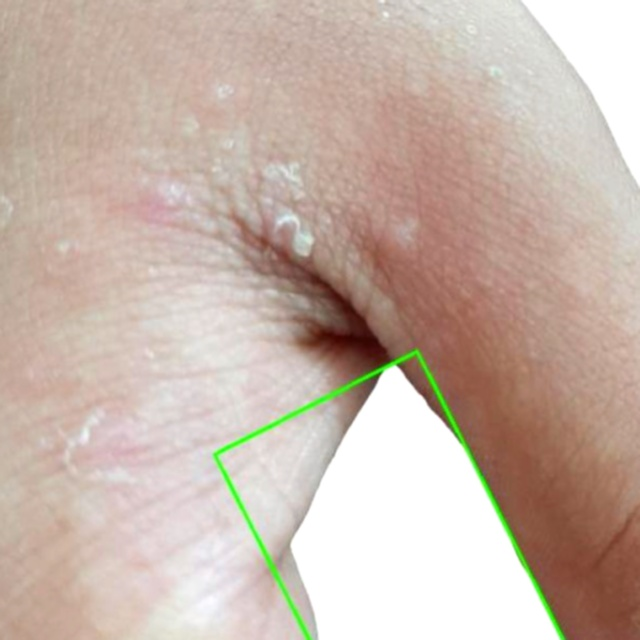Scabies: (214, 351, 563, 639)
